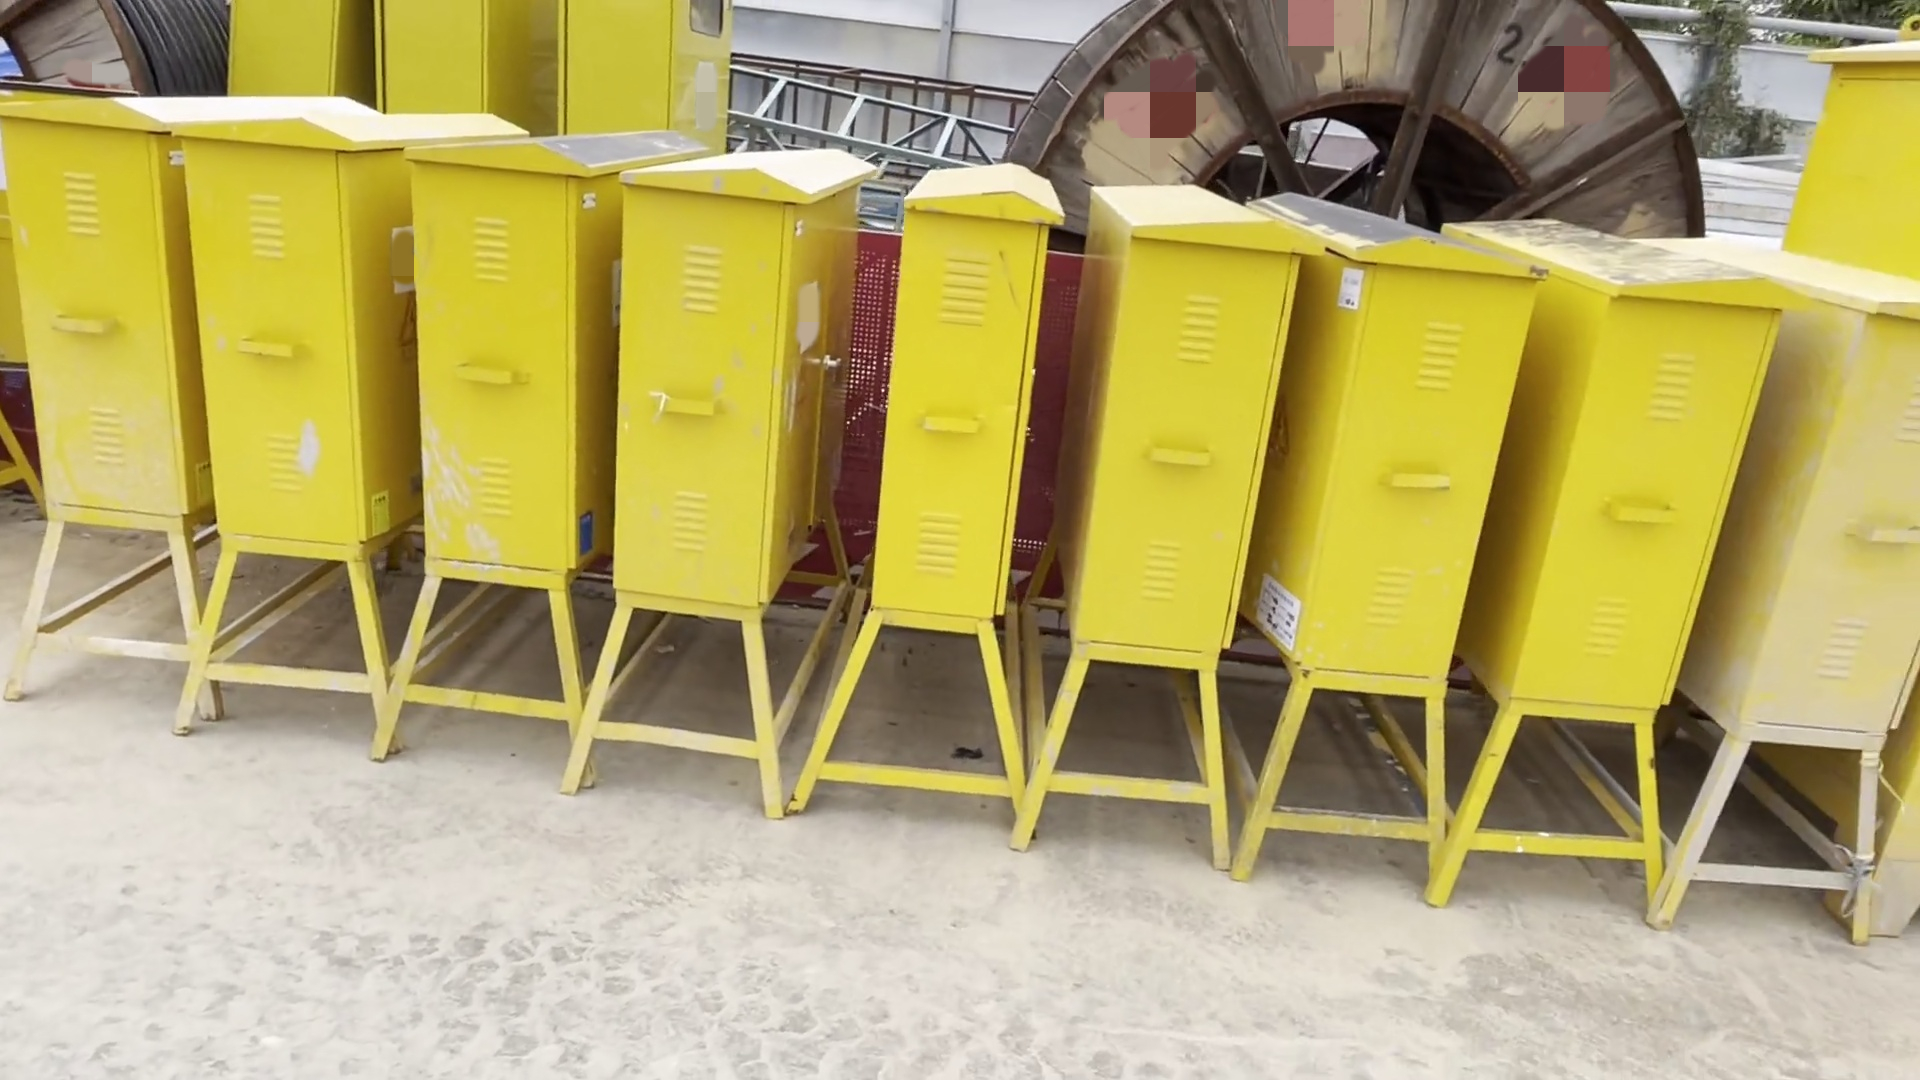ebox: (1435, 215, 1749, 905), (572, 135, 887, 804), (193, 107, 524, 720), (20, 83, 342, 707), (1022, 167, 1317, 837), (368, 135, 680, 764), (1238, 152, 1513, 865), (787, 161, 1079, 814), (1696, 200, 1886, 955), (568, 1, 750, 160), (384, 1, 537, 131), (210, 1, 364, 88)
